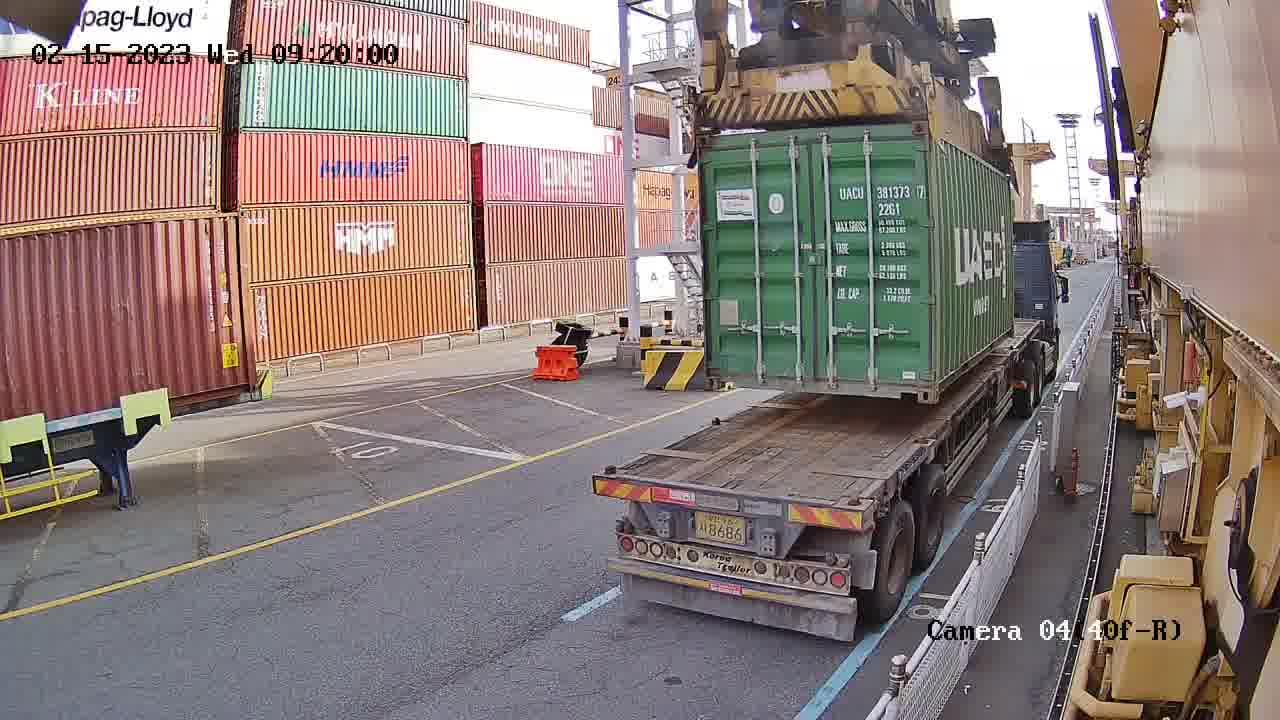Chassis: (592, 476, 865, 558)
Cone: (844, 493, 877, 527), (594, 459, 623, 497)
Hole_L: (702, 350, 740, 389)
Hole_R: (892, 359, 937, 403)
Tire: (875, 505, 915, 612), (915, 467, 947, 560)
